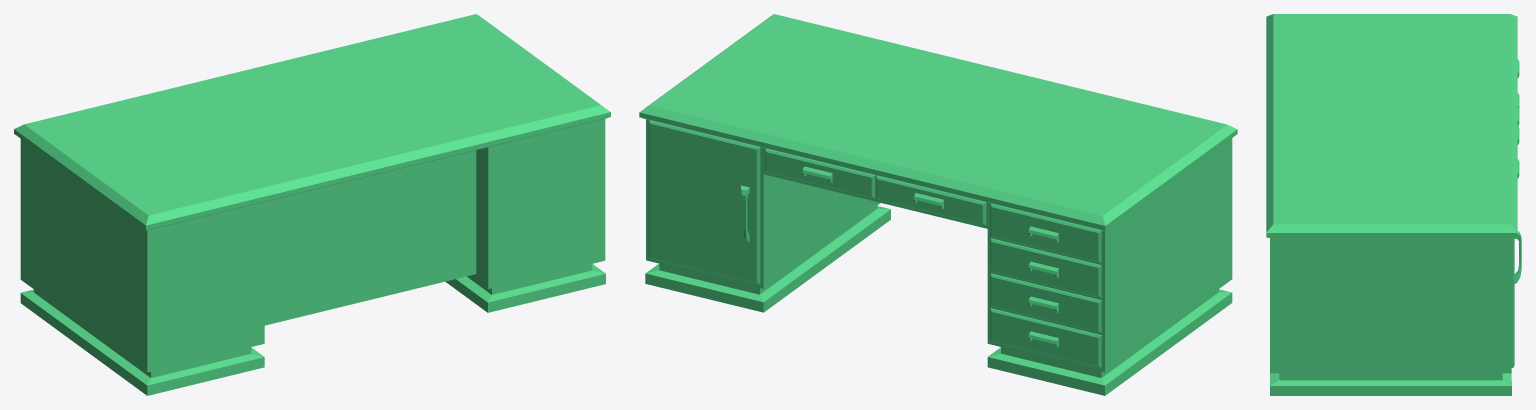
File: Table.obj
3 views of the same model, side by side, from view 1: azimuth 30°, elevation 25°; view 2: azimuth 150°, elevation 25°; view 3: azimuth 270°, elevation 25° (orthographic). The views are drawn at different scales.
Visible parts, largest first — view 1: Desk; view 2: Desk; view 3: Desk.
Boxes of the visible parts, left/top/right/bottom form: Desk: left=14, top=14, right=610, bottom=395; Desk: left=639, top=14, right=1237, bottom=395; Desk: left=1266, top=14, right=1521, bottom=395.
Size of the model in its own units: 11.26 by 4.13 by 5.62.
